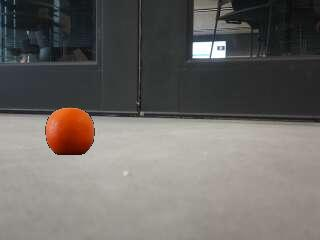Orange: (45, 103, 96, 158)
